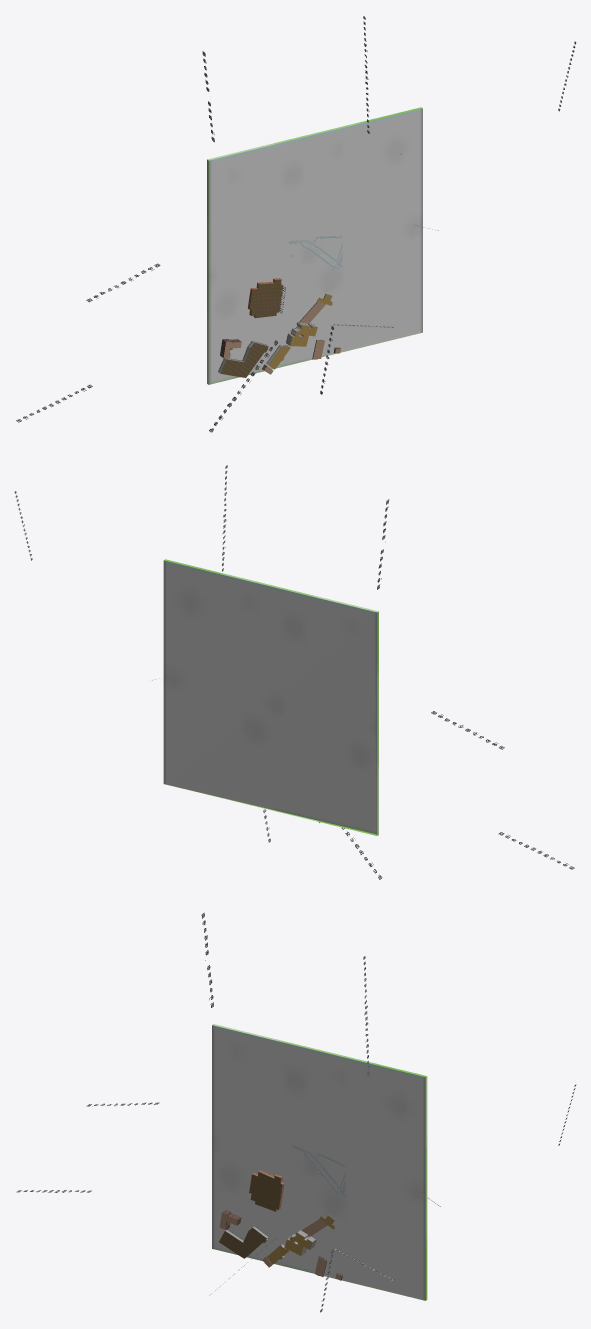
3 views of the same model, one above another, from view 1: azimuth 30°, elevation 25°; view 2: azimuth 150°, elevation 25°; view 3: azimuth 330°, elevation 25° (orthographic).
Parts seen in each view (by area): view 1: POLYGON, BUILDING, FONT, POLYLINE; view 2: POLYGON, FONT; view 3: POLYGON, BUILDING, FONT, POLYLINE.
Boxes of the visible parts, <box> form: POLYGON: <box>207,107,422,384</box>; BUILDING: <box>218,278,340,377</box>; FONT: <box>16,16,576,432</box>; POLYLINE: <box>289,235,342,270</box>; POLYGON: <box>163,559,378,835</box>; FONT: <box>14,465,574,879</box>; POLYGON: <box>212,1024,427,1300</box>; BUILDING: <box>219,1170,342,1280</box>; FONT: <box>16,912,576,1312</box>; POLYLINE: <box>292,1144,345,1197</box>.
Bounding box in the file's own units: 1598 × 1047 × 31.36.
Materials: 4 (4 with a texture image).
